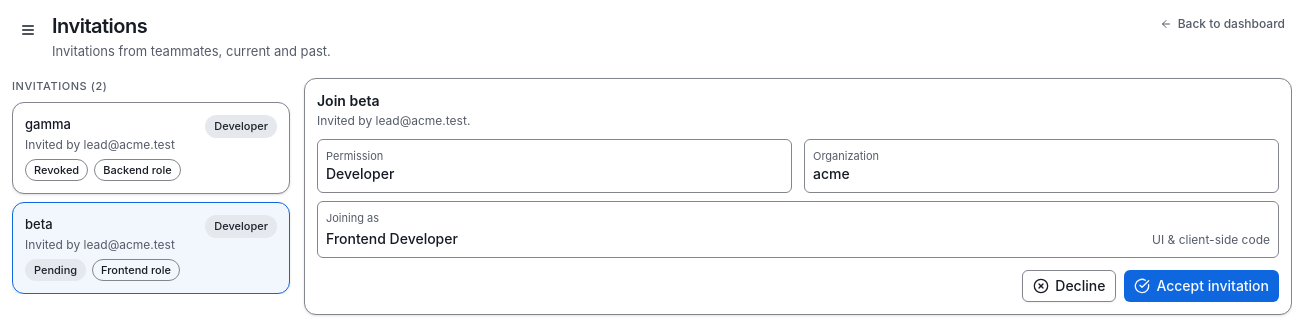
InvitationsPage invitation lifecycle (#72) › opens on the live invitation and shows a closed one read-only
Check: the heading "Join beta" is shown, box [317,92,380,108]
Click the text "gamma".
click(48, 124)  # box [25,116,71,132]
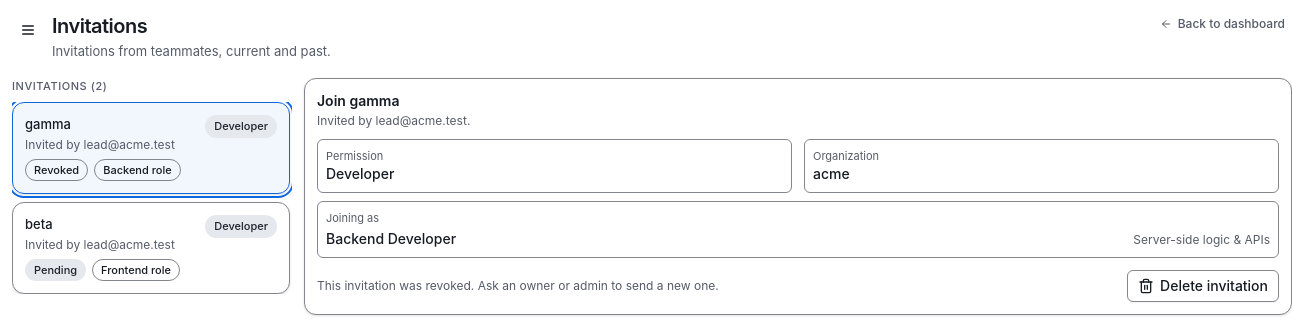
Check: the heading "Join gamma" is shown, box [317,92,400,108]
Check: the button "Accept invitation" is gone
Check: the text "This invitation was revoked" is shown, box [317,278,719,292]
